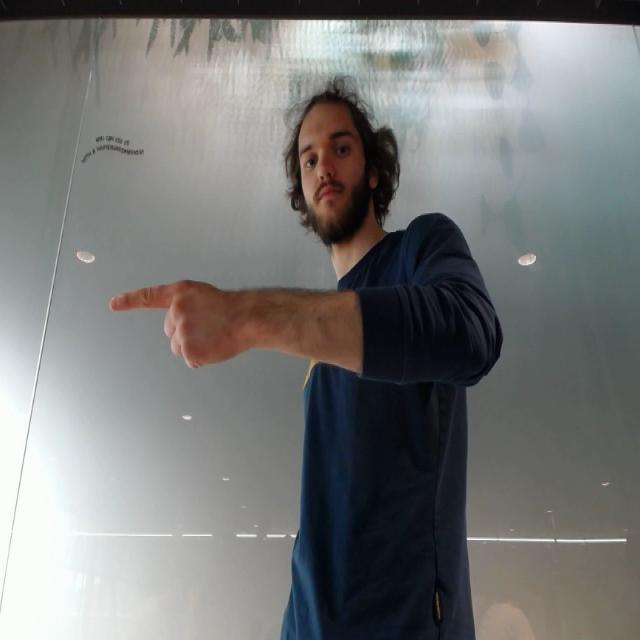left: (102, 270, 252, 369)
